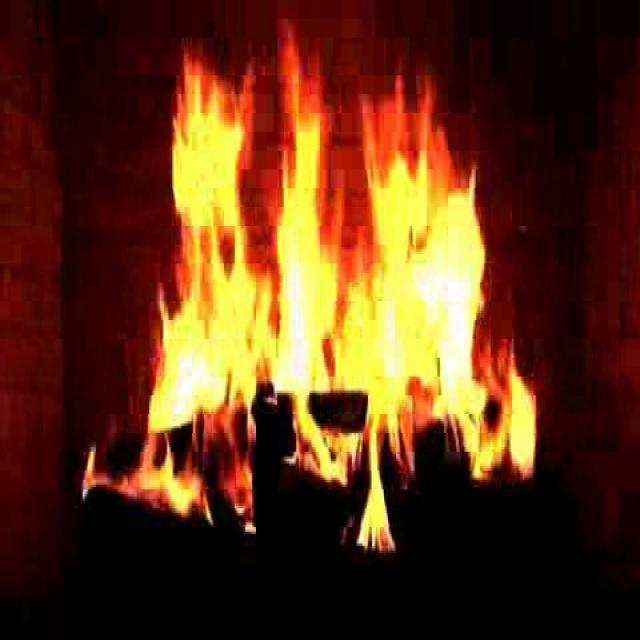Fire: (132, 52, 534, 542)
